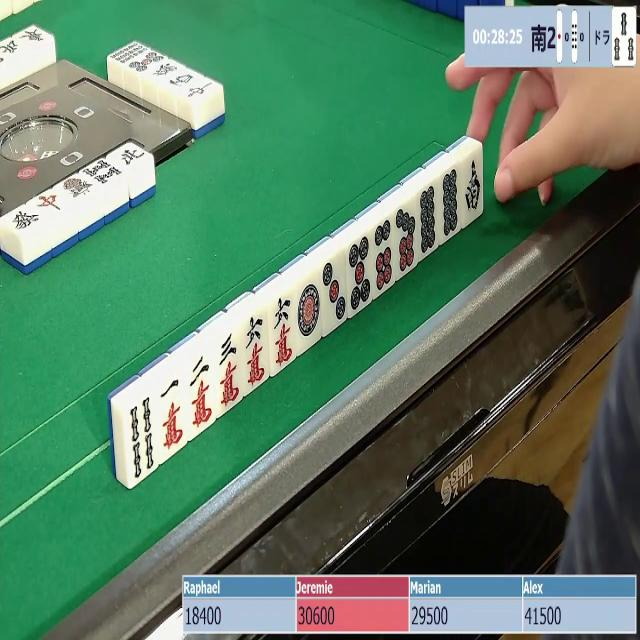m1: (154, 375, 191, 457)
m2: (185, 353, 218, 433)
m3: (216, 328, 240, 411)
m6: (238, 314, 272, 392), (269, 293, 293, 372)
s3: (613, 8, 636, 66)
s4: (126, 394, 160, 487)
south: (458, 154, 481, 221)
t1: (293, 275, 323, 349)
t3: (320, 256, 349, 329)
t5: (346, 238, 373, 316)
t6: (368, 217, 398, 296)
t7: (390, 203, 420, 278)
t8: (439, 166, 466, 240), (416, 184, 442, 258)
